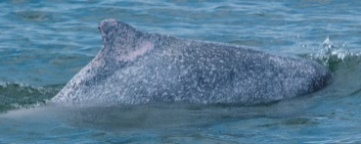fin: (41, 9, 344, 126)
